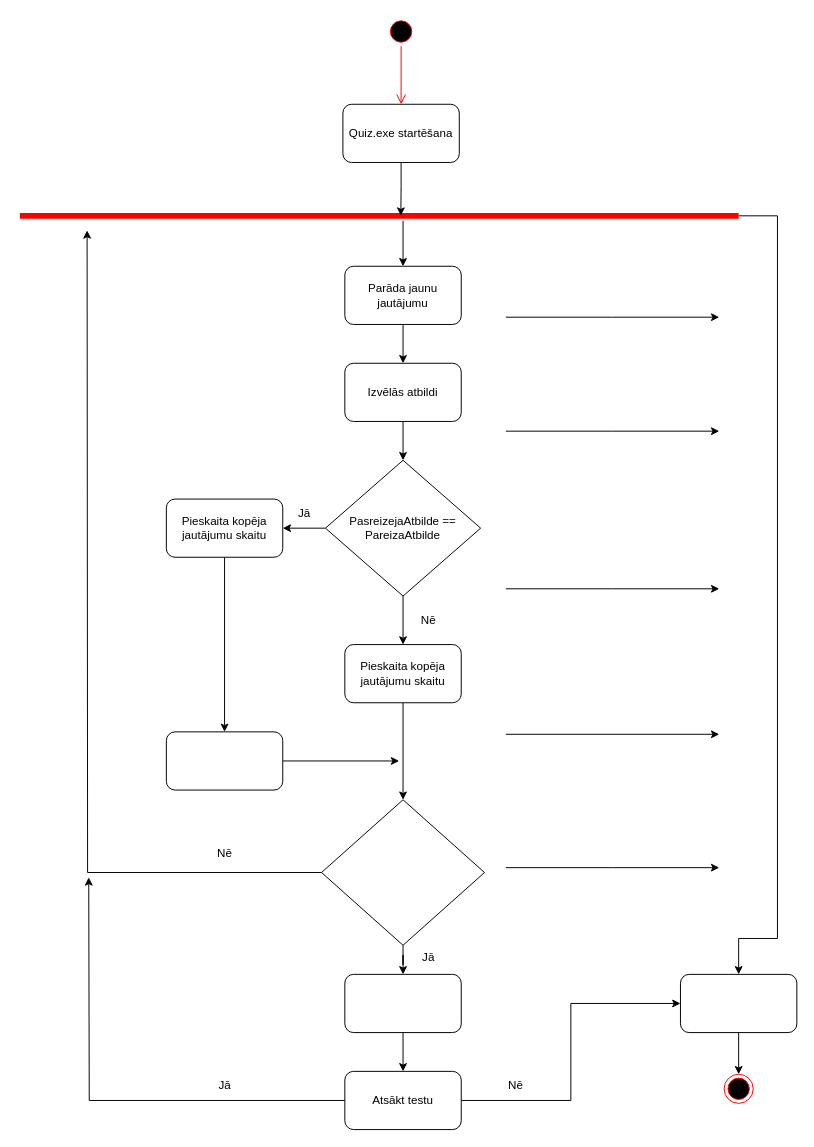
The diagram is 814 pixels wide and 1147 high, and some of its shapes have lost their labels. The shapes that lost their labels are listed below. From the top down, each one's centre as x and y in pixels, then its label:
(224,760): Tiek pieskaitīta pareizā atbilde pie rezultāta
(403,872): JautajumuSkaits == KopejoJautajumuSkaits
(402,1003): Parāda rezultātu par testu un pareizās atbildes uz visiem jautājumiem
(738,1003): Quiz.exe aizvēršana
